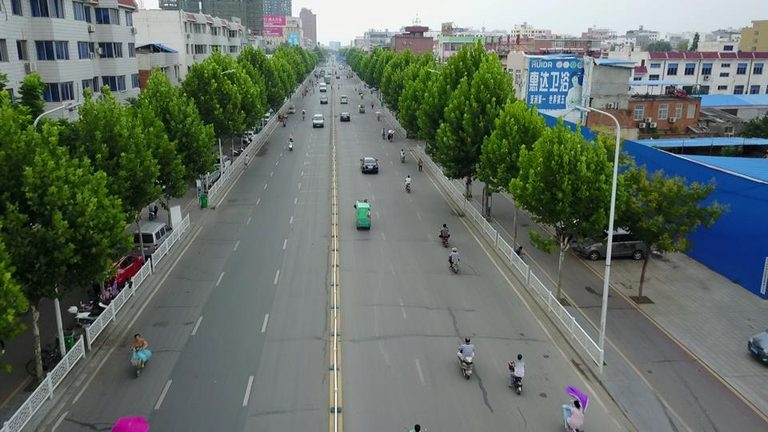bicycle: (26, 341, 74, 377)
car: (94, 254, 145, 297), (557, 209, 618, 241), (194, 164, 221, 187), (208, 154, 233, 176), (361, 157, 378, 174), (241, 130, 258, 142), (340, 112, 350, 122), (320, 96, 328, 104), (335, 75, 340, 79)
motor: (557, 398, 597, 431), (67, 303, 122, 325), (129, 342, 154, 379), (458, 343, 474, 378), (509, 360, 523, 394), (449, 252, 460, 273), (438, 229, 450, 248), (230, 146, 246, 156), (147, 206, 158, 220), (404, 180, 411, 193), (400, 152, 406, 164), (287, 141, 294, 151), (388, 134, 393, 143), (382, 130, 386, 138), (282, 120, 286, 127), (377, 115, 381, 121)
pedestrian: (509, 354, 525, 386), (458, 338, 474, 364), (439, 223, 450, 244), (448, 247, 460, 266), (148, 199, 156, 217), (404, 175, 411, 189), (399, 149, 406, 161), (418, 158, 423, 173), (381, 127, 386, 136), (289, 137, 293, 147), (389, 130, 393, 138), (282, 117, 286, 125), (370, 102, 374, 109), (302, 110, 305, 118), (302, 114, 305, 120), (377, 114, 380, 119)
people: (127, 332, 150, 364), (564, 401, 586, 430), (514, 246, 525, 262)
tricycle: (358, 103, 365, 114), (288, 104, 295, 114)
truck: (324, 75, 330, 84)
van: (577, 226, 651, 260), (132, 223, 171, 261), (354, 199, 371, 230), (313, 114, 324, 128), (260, 114, 270, 127), (319, 83, 326, 93), (340, 95, 348, 103)
